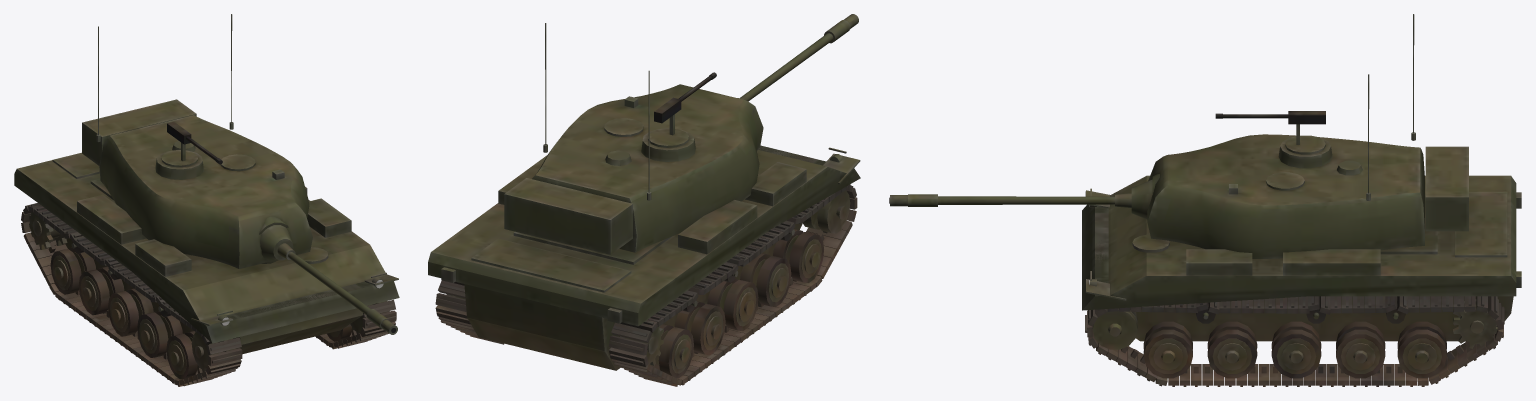
The picture shows the model from 3 angles, left to right: view 1: azimuth 30°, elevation 25°; view 2: azimuth 150°, elevation 25°; view 3: azimuth 270°, elevation 25°; orthographic projection. The views are drawn at different scales.
Parts seen in each view (by area): view 1: than, thap, xich_phai, nong, banh_phai_3, banh_phai_2, banh_phai_4, banh_phai_5, xich_trai, banh_phai_1, vom_chi_huy, banh_chu_dong_phai (+5 smaller); view 2: than, thap, xich_phai, banh_phai_2, banh_phai_3, banh_phai_1, banh_phai_4, banh_phai_5, xich_trai, nong, banh_dan_huong_phai, vom_chi_huy (+4 smaller); view 3: than, thap, xich_trai, nong, banh_trai_3, banh_trai_2, banh_trai_5, banh_trai_4, banh_trai_1, banh_dan_huong_trai, banh_chu_dong_trai, vom_chi_huy (+3 smaller).
Boxes of the visible parts, x1=… form: than: x1=14, y1=152, x2=399, y2=354; thap: x1=82, y1=99, x2=312, y2=268; xich_phai: x1=21, y1=203, x2=242, y2=386; nong: x1=259, y1=216, x2=397, y2=334; banh_phai_3: x1=108, y1=288, x2=153, y2=336; banh_phai_2: x1=137, y1=311, x2=182, y2=357; banh_phai_4: x1=78, y1=266, x2=124, y2=315; banh_phai_5: x1=50, y1=247, x2=95, y2=294; xich_trai: x1=315, y1=299, x2=396, y2=349; banh_phai_1: x1=166, y1=331, x2=199, y2=379; vom_chi_huy: x1=155, y1=142, x2=203, y2=179; banh_chu_dong_phai: x1=29, y1=212, x2=67, y2=249; than: x1=428, y1=145, x2=860, y2=370; thap: x1=504, y1=84, x2=763, y2=254; xich_phai: x1=609, y1=184, x2=857, y2=386; banh_phai_2: x1=740, y1=253, x2=791, y2=307; banh_phai_3: x1=707, y1=278, x2=758, y2=331; banh_phai_1: x1=773, y1=229, x2=823, y2=282; banh_phai_4: x1=674, y1=301, x2=725, y2=355; banh_phai_5: x1=655, y1=324, x2=693, y2=378; xich_trai: x1=435, y1=280, x2=503, y2=344; nong: x1=737, y1=14, x2=858, y2=101; banh_dan_huong_phai: x1=803, y1=190, x2=850, y2=233; vom_chi_huy: x1=641, y1=114, x2=695, y2=161; than: x1=1082, y1=175, x2=1521, y2=341; thap: x1=1147, y1=134, x2=1468, y2=258; xich_trai: x1=1085, y1=296, x2=1504, y2=386; nong: x1=889, y1=174, x2=1159, y2=219; banh_trai_3: x1=1271, y1=321, x2=1321, y2=378; banh_trai_2: x1=1207, y1=321, x2=1257, y2=378; banh_trai_5: x1=1397, y1=321, x2=1446, y2=378; banh_trai_4: x1=1336, y1=321, x2=1385, y2=378; banh_trai_1: x1=1143, y1=321, x2=1192, y2=378; banh_dan_huong_trai: x1=1092, y1=308, x2=1137, y2=349; banh_chu_dong_trai: x1=1453, y1=299, x2=1497, y2=348; vom_chi_huy: x1=1278, y1=124, x2=1332, y2=168.
Bounding box in the file's own units: 3.2 × 4.32 × 8.43.
1 material, 1 textured.
